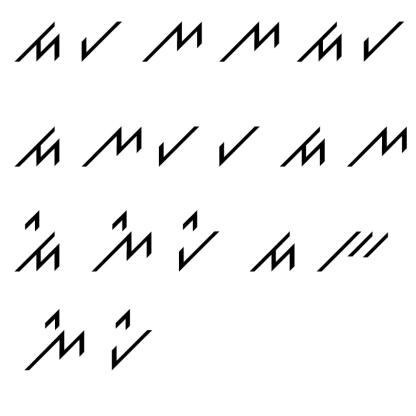da: (9, 120, 63, 174), (248, 226, 301, 281), (276, 124, 329, 176), (13, 16, 63, 68), (294, 18, 346, 66)
di: (13, 208, 64, 277)
na: (343, 116, 411, 174), (138, 14, 204, 68), (215, 16, 284, 66), (78, 123, 144, 173)
ni: (14, 301, 92, 374), (90, 211, 157, 278)
pa: (73, 15, 126, 67), (357, 15, 408, 68), (212, 119, 263, 168), (156, 119, 201, 172)
pi: (102, 302, 156, 371), (171, 209, 221, 272)
